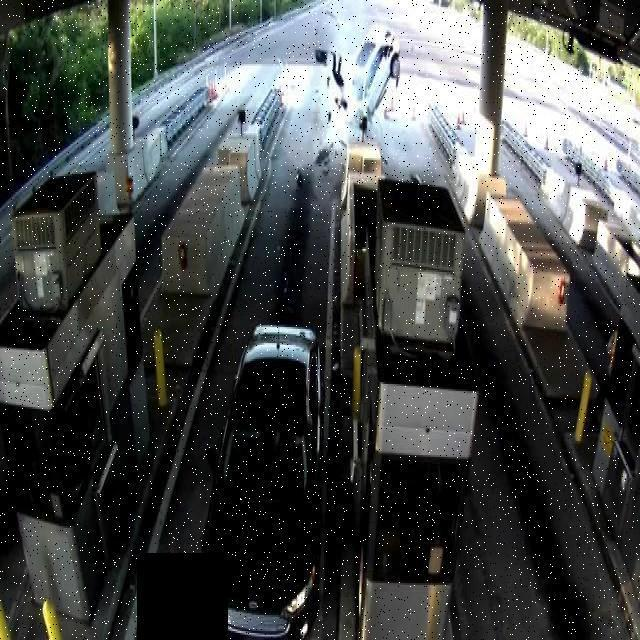person: (310, 30, 420, 144)
